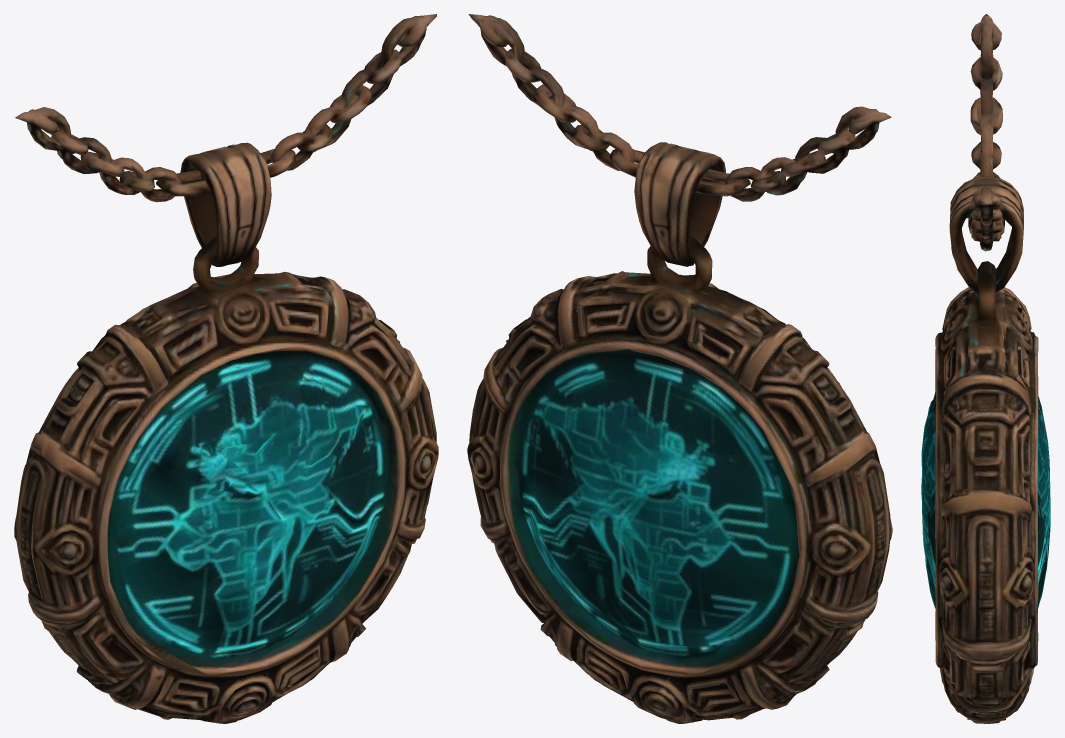
File: BOUSSOLE.glb
The picture shows the model from 3 angles, left to right: view 1: azimuth 30°, elevation 25°; view 2: azimuth 150°, elevation 25°; view 3: azimuth 270°, elevation 25°; orthographic projection. The views are drawn at different scales.
Parts seen in each view (by area): view 1: node_0; view 2: node_0; view 3: node_0.
Boxes of the visible parts, x1,y1,x2,y2 form: node_0: (14, 14, 438, 723); node_0: (467, 14, 892, 723); node_0: (921, 14, 1050, 723).
Size of the model in its own units: 0.6733 by 0.9996 by 0.1935.
Materials: 1 (1 with a texture image).
